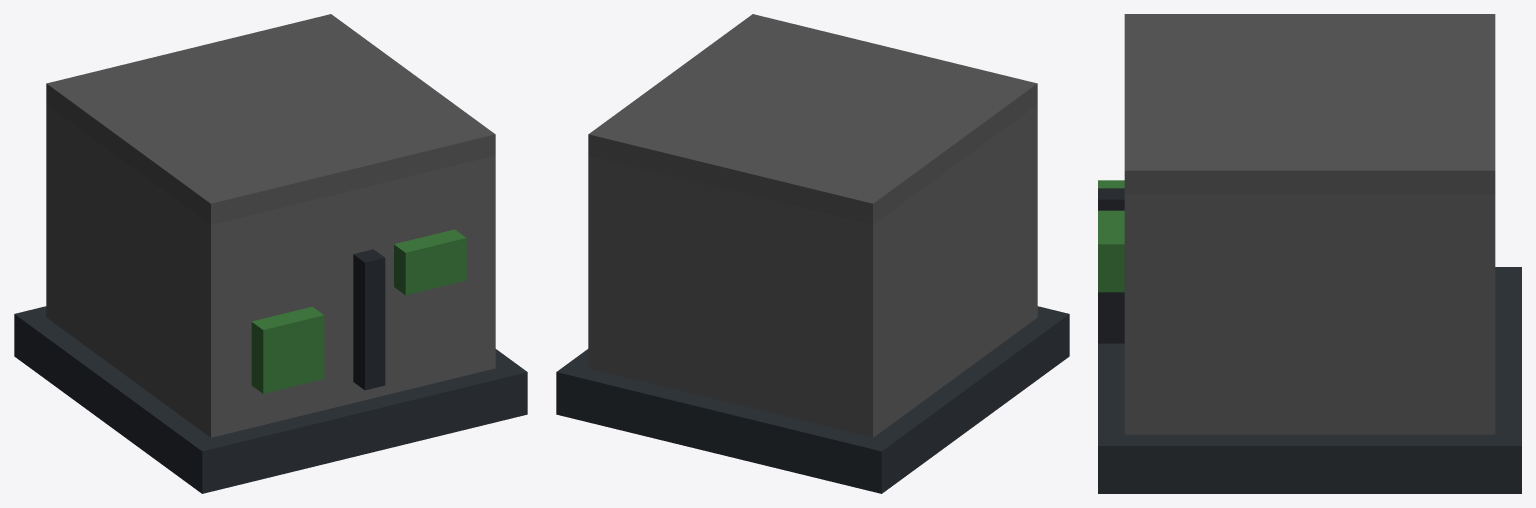
The model's file is tile_stone_wall.glb.
The picture shows the model from 3 angles, left to right: view 1: azimuth 30°, elevation 25°; view 2: azimuth 150°, elevation 25°; view 3: azimuth 270°, elevation 25°; orthographic projection. The views are drawn at different scales.
Parts seen in each view (by area): view 1: Wall mesh, Cap mesh, Base mesh, Moss mesh, Crack mesh; view 2: Wall mesh, Cap mesh, Base mesh; view 3: Wall mesh, Cap mesh, Base mesh, Moss mesh, Crack mesh.
Boxes of the visible parts, x1,y1,x2,y2 form: Wall mesh: [46, 105, 495, 437]; Cap mesh: [46, 14, 495, 224]; Base mesh: [14, 306, 527, 493]; Moss mesh: [251, 229, 466, 393]; Crack mesh: [353, 249, 385, 390]; Wall mesh: [588, 105, 1037, 437]; Cap mesh: [588, 14, 1037, 224]; Base mesh: [556, 306, 1069, 493]; Wall mesh: [1124, 194, 1495, 434]; Cap mesh: [1124, 14, 1495, 194]; Base mesh: [1098, 267, 1521, 493]; Moss mesh: [1098, 180, 1124, 292]; Crack mesh: [1098, 188, 1124, 343].
Size of the model in its own units: 16 by 13 by 16.
1 material, 1 textured.
